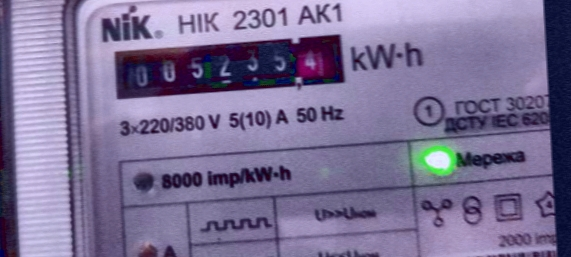0: (133, 59, 150, 85), (161, 55, 177, 80)
2: (216, 48, 233, 75)
3: (243, 44, 261, 70)
4: (301, 41, 320, 71)
5: (271, 42, 288, 70), (189, 51, 204, 77)
screen: (101, 20, 354, 105)
